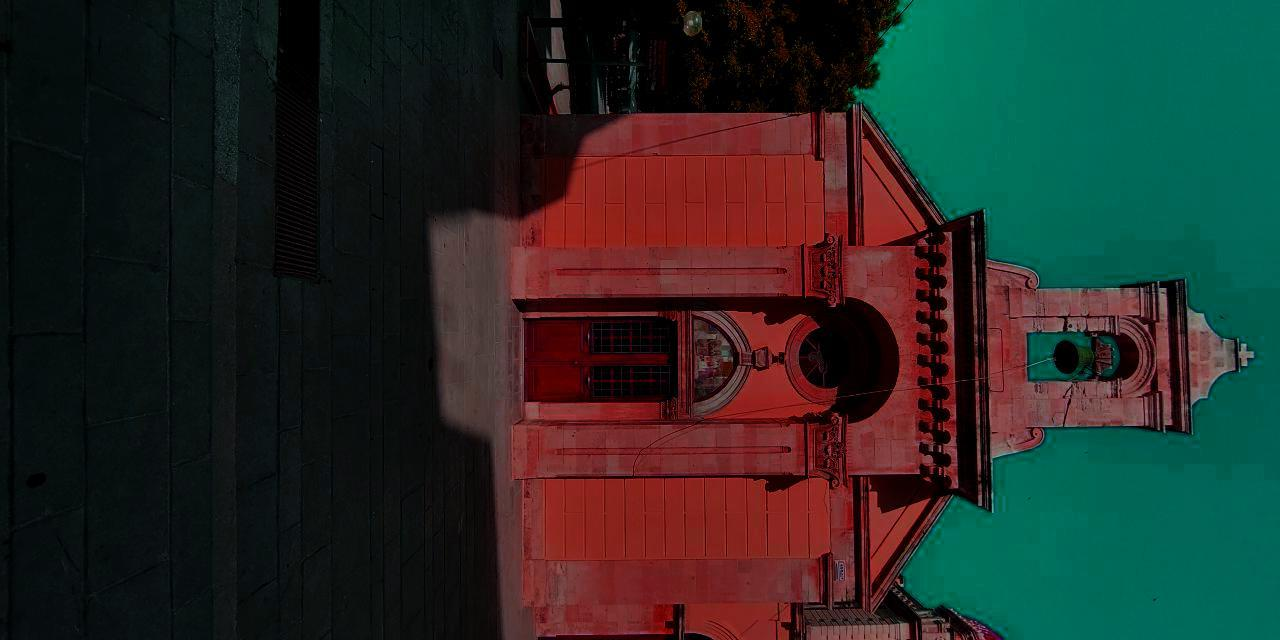Agios Minas: (706, 1, 1232, 622)
